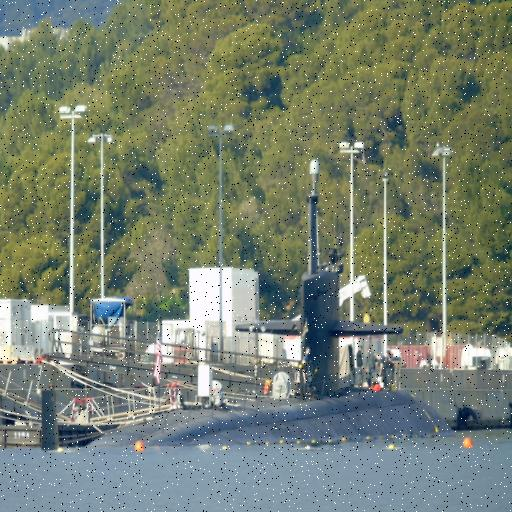submarine: (38, 182, 466, 441)
